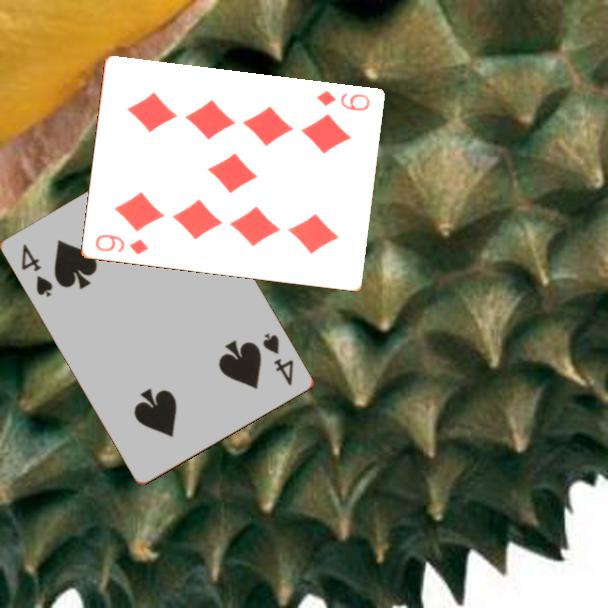d09: (313, 87, 372, 114), (91, 231, 151, 257)
s04: (259, 329, 297, 389), (18, 240, 56, 300)
